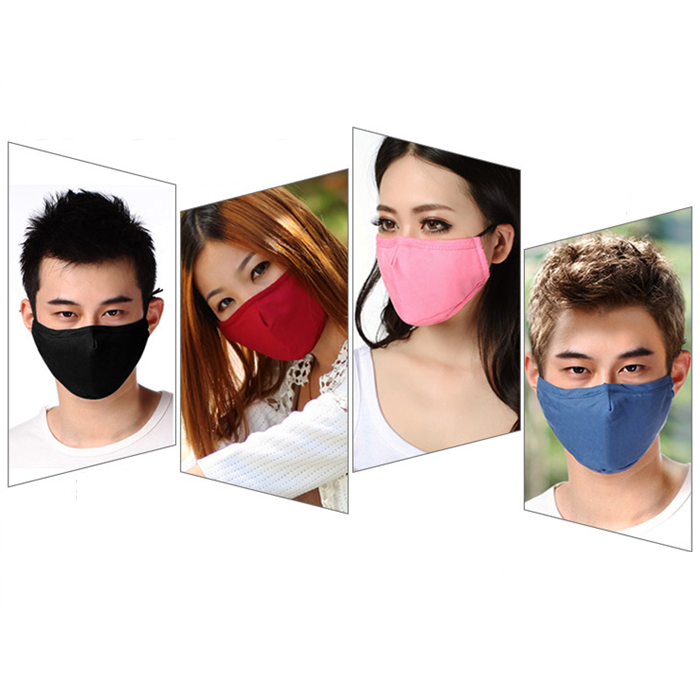face_mask: (538, 299, 670, 471), (370, 158, 483, 323), (31, 244, 145, 399), (198, 235, 311, 357)
